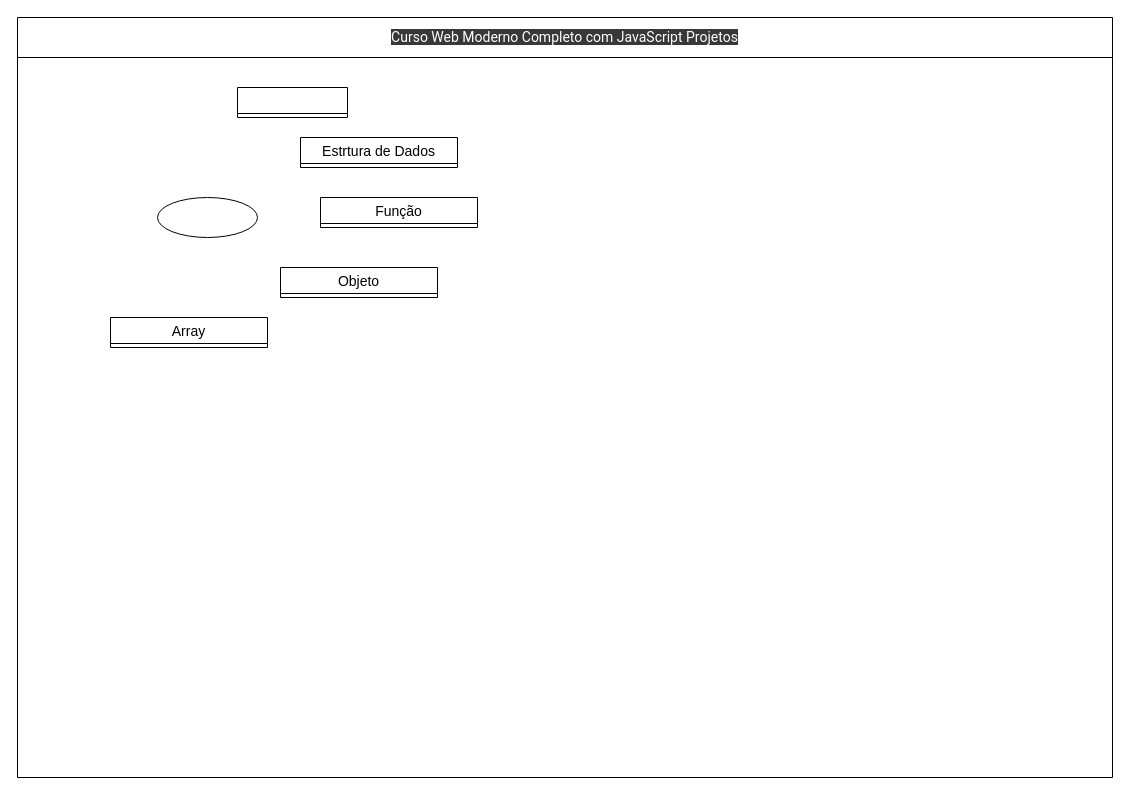
This 1130x795 diagram has some shape labels left out. Here are the shapes that lost their labels. From the top down, the centre of each, then its label:
At pixel 292 102: "Fundametos".
At pixel 207 217: "JavaScript".
